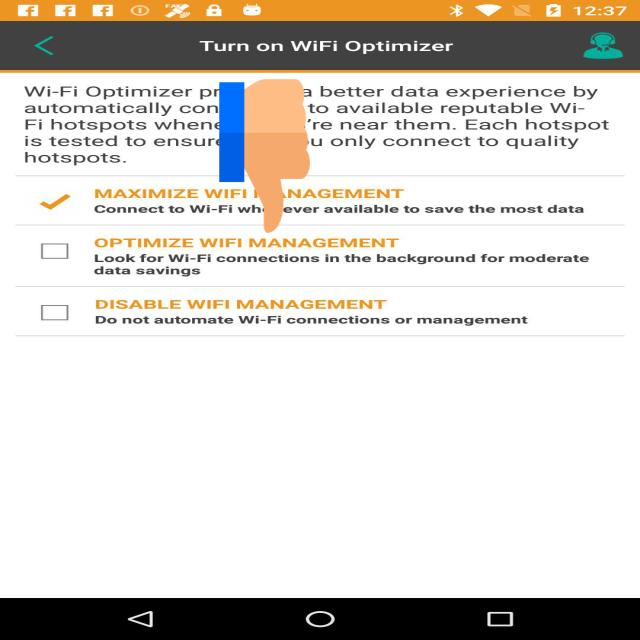obstruction: (219, 75, 310, 237)
